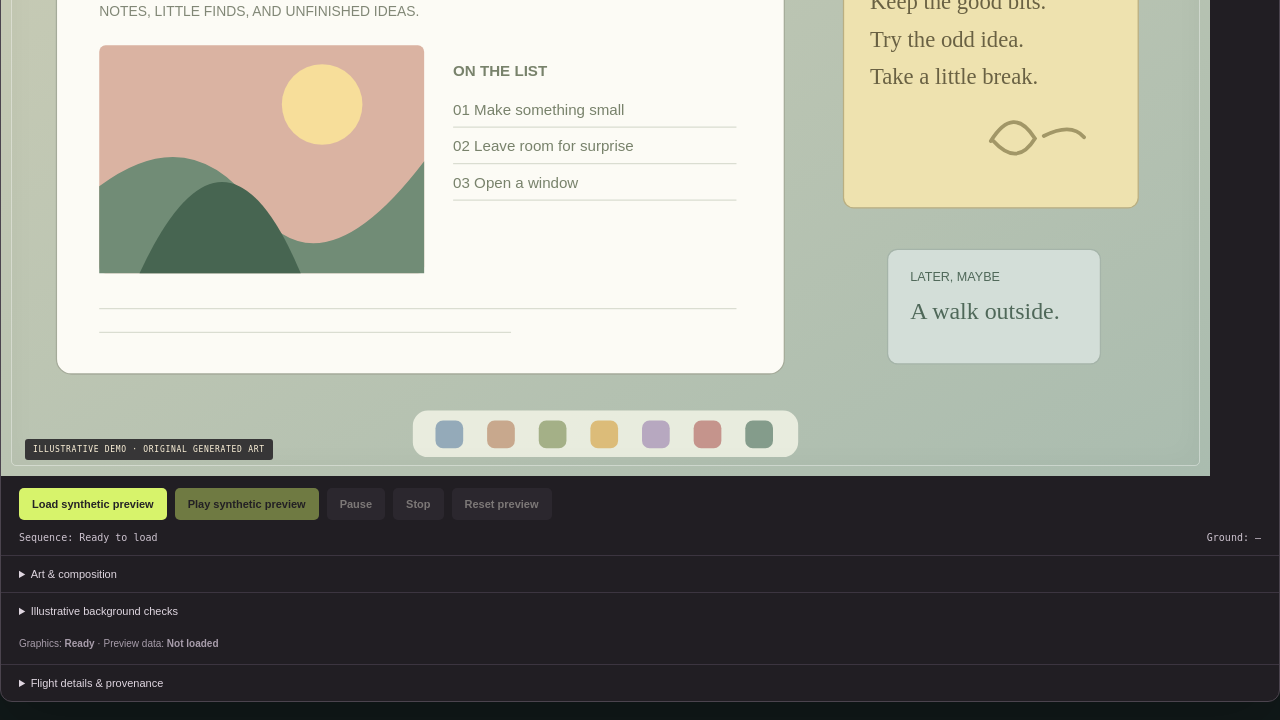
Test: flight stage lifecycle › ends at the final snapshot and requires reset before playing again
The image size is (1280, 720).
(page scrolled)
What coordinates should you click on to do the following:
click the button "Load synthetic preview"
I would click on:
 (93, 504)
Its box is [19,488,167,520].
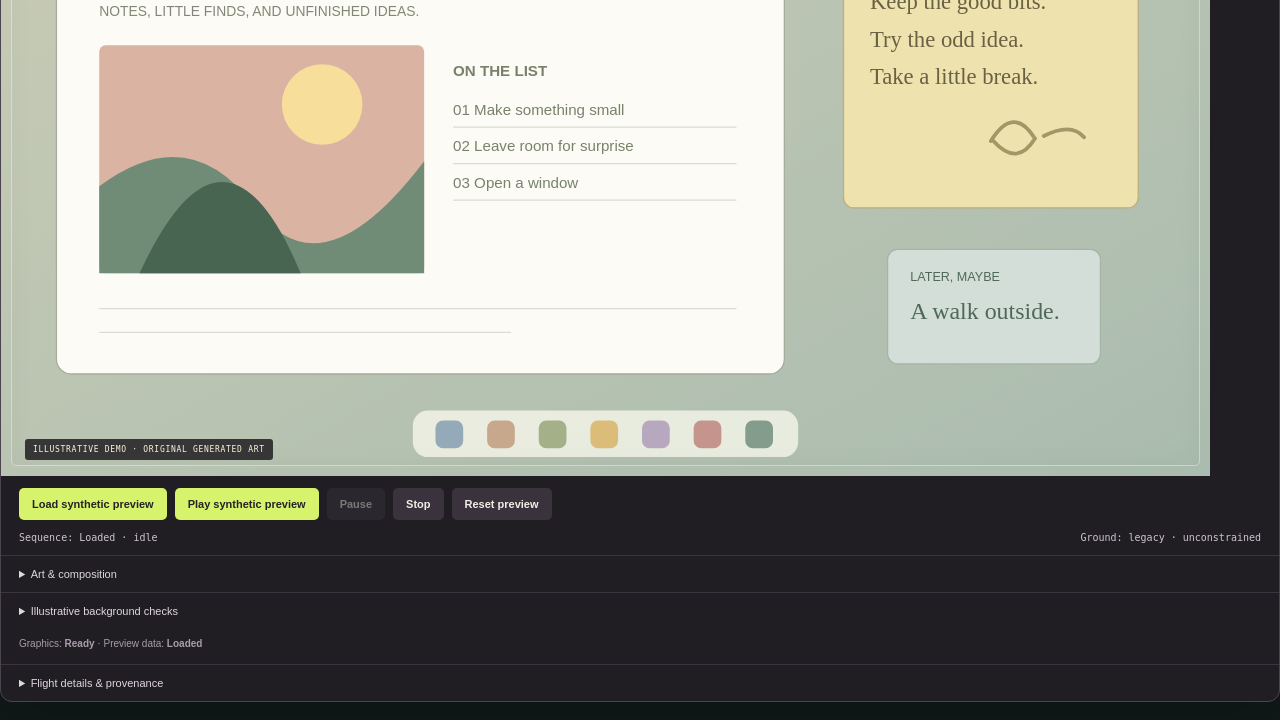
What coordinates should you click on to do the following:
click the button "Play synthetic preview"
I would click on:
 (247, 504)
Its box is [175,488,319,520].
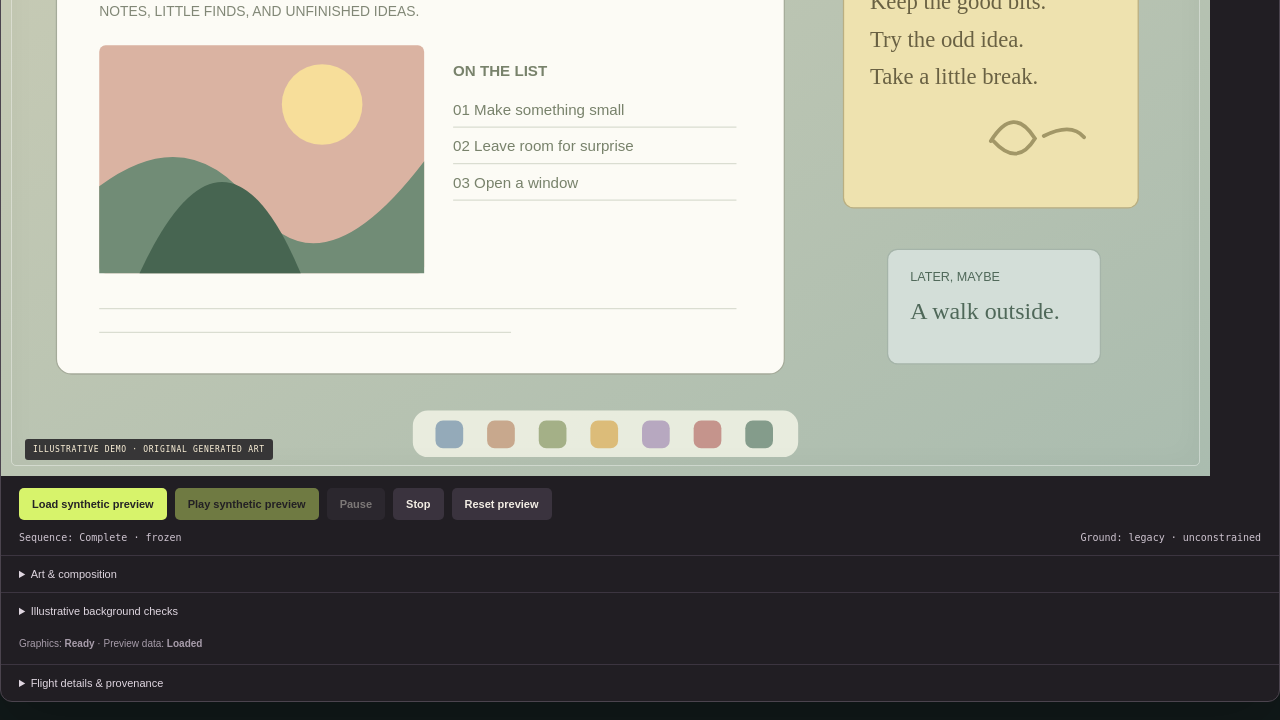
Check: the button "Play synthetic preview" is disabled, box [175,488,319,520]
